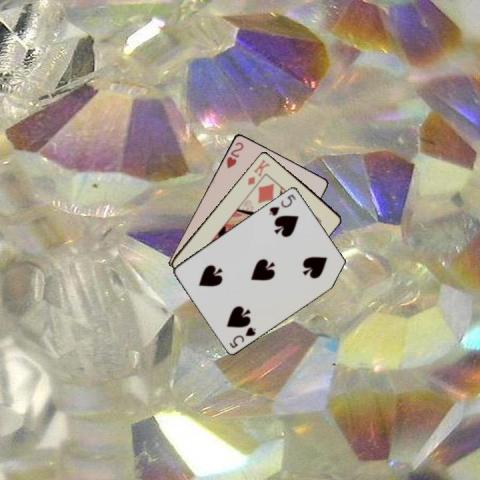2h: (223, 139, 245, 169)
5s: (266, 190, 297, 216), (227, 324, 257, 349)
Kd: (245, 156, 271, 186)
